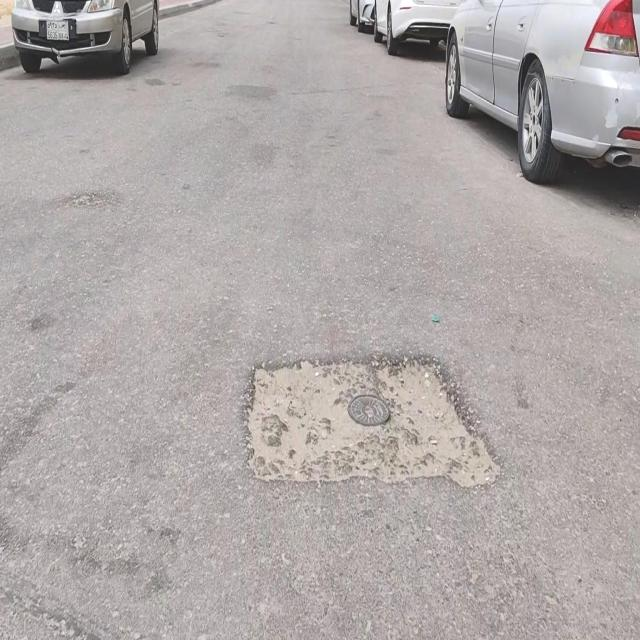Potholes: (242, 346, 507, 495)
